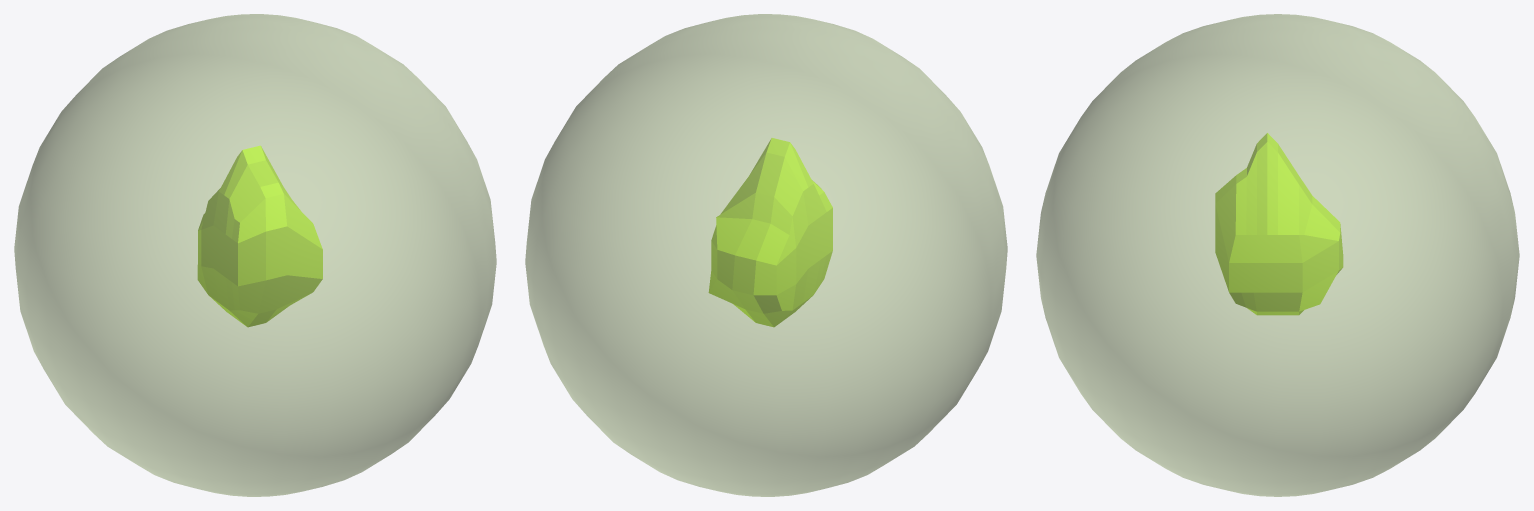
The model's file is ItemBuff.fbx.
3 views of the same model, side by side, from view 1: azimuth 30°, elevation 25°; view 2: azimuth 150°, elevation 25°; view 3: azimuth 270°, elevation 25° (orthographic).
Parts seen in each view (by area): view 1: Sphere.003, Cube.007; view 2: Sphere.003, Cube.007; view 3: Sphere.003, Cube.007.
Part boxes in pixels (x1,y1,x2,y2): Sphere.003: (14, 14, 496, 496); Cube.007: (197, 145, 322, 327); Sphere.003: (525, 14, 1007, 496); Cube.007: (708, 138, 832, 327); Sphere.003: (1036, 14, 1519, 496); Cube.007: (1215, 133, 1343, 315).
Bounding box in the file's own units: 1142 × 1142 × 1142.
